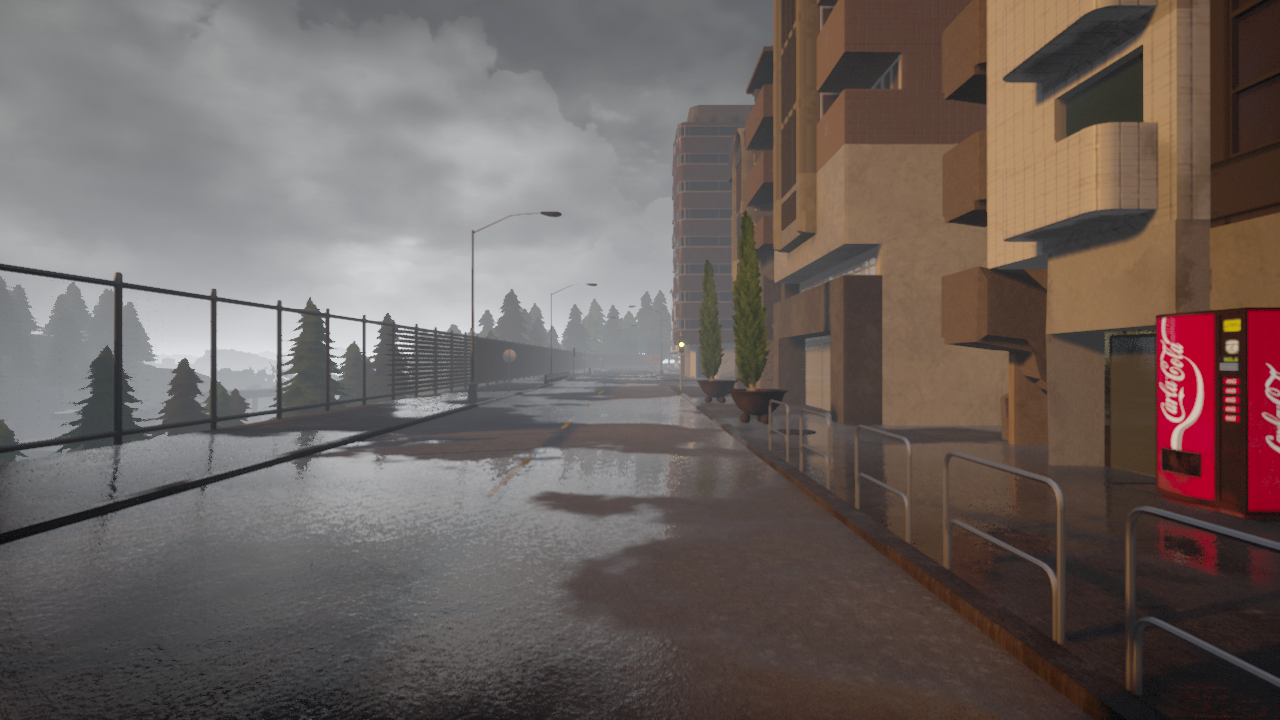yellow: (677, 335, 687, 355)
